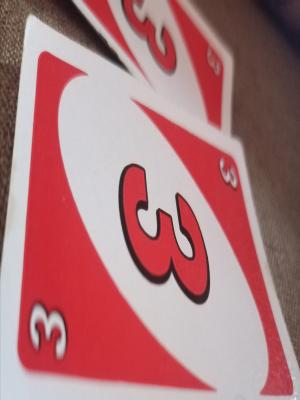num_3: (118, 0, 181, 87), (25, 288, 71, 372), (217, 151, 239, 198), (206, 39, 223, 85)
